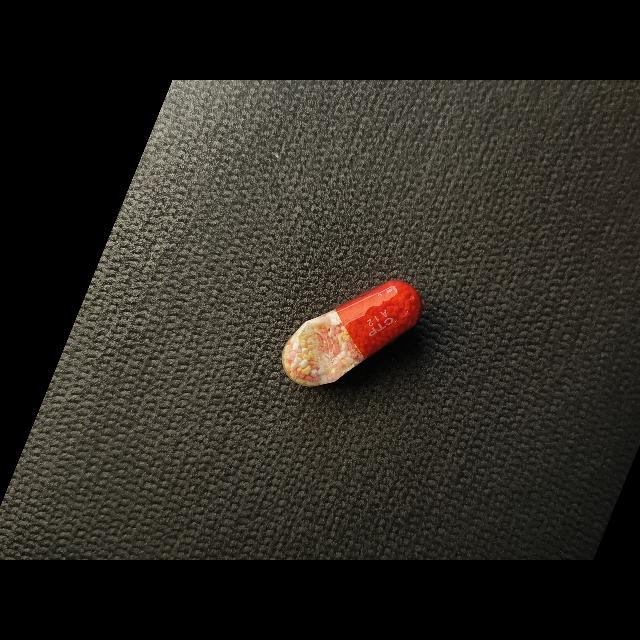Defective Capsule: (282, 280, 422, 387)
